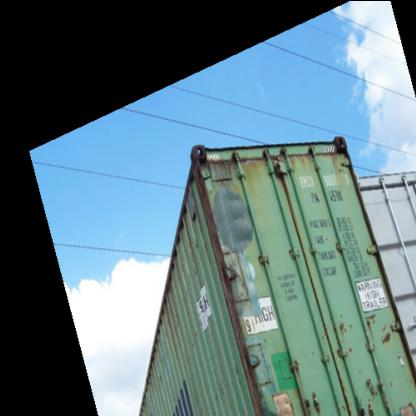Damage: (189, 145, 259, 403), (368, 308, 404, 402)
